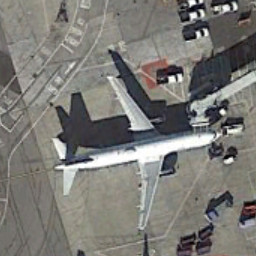Airplane: (49, 72, 228, 233)
